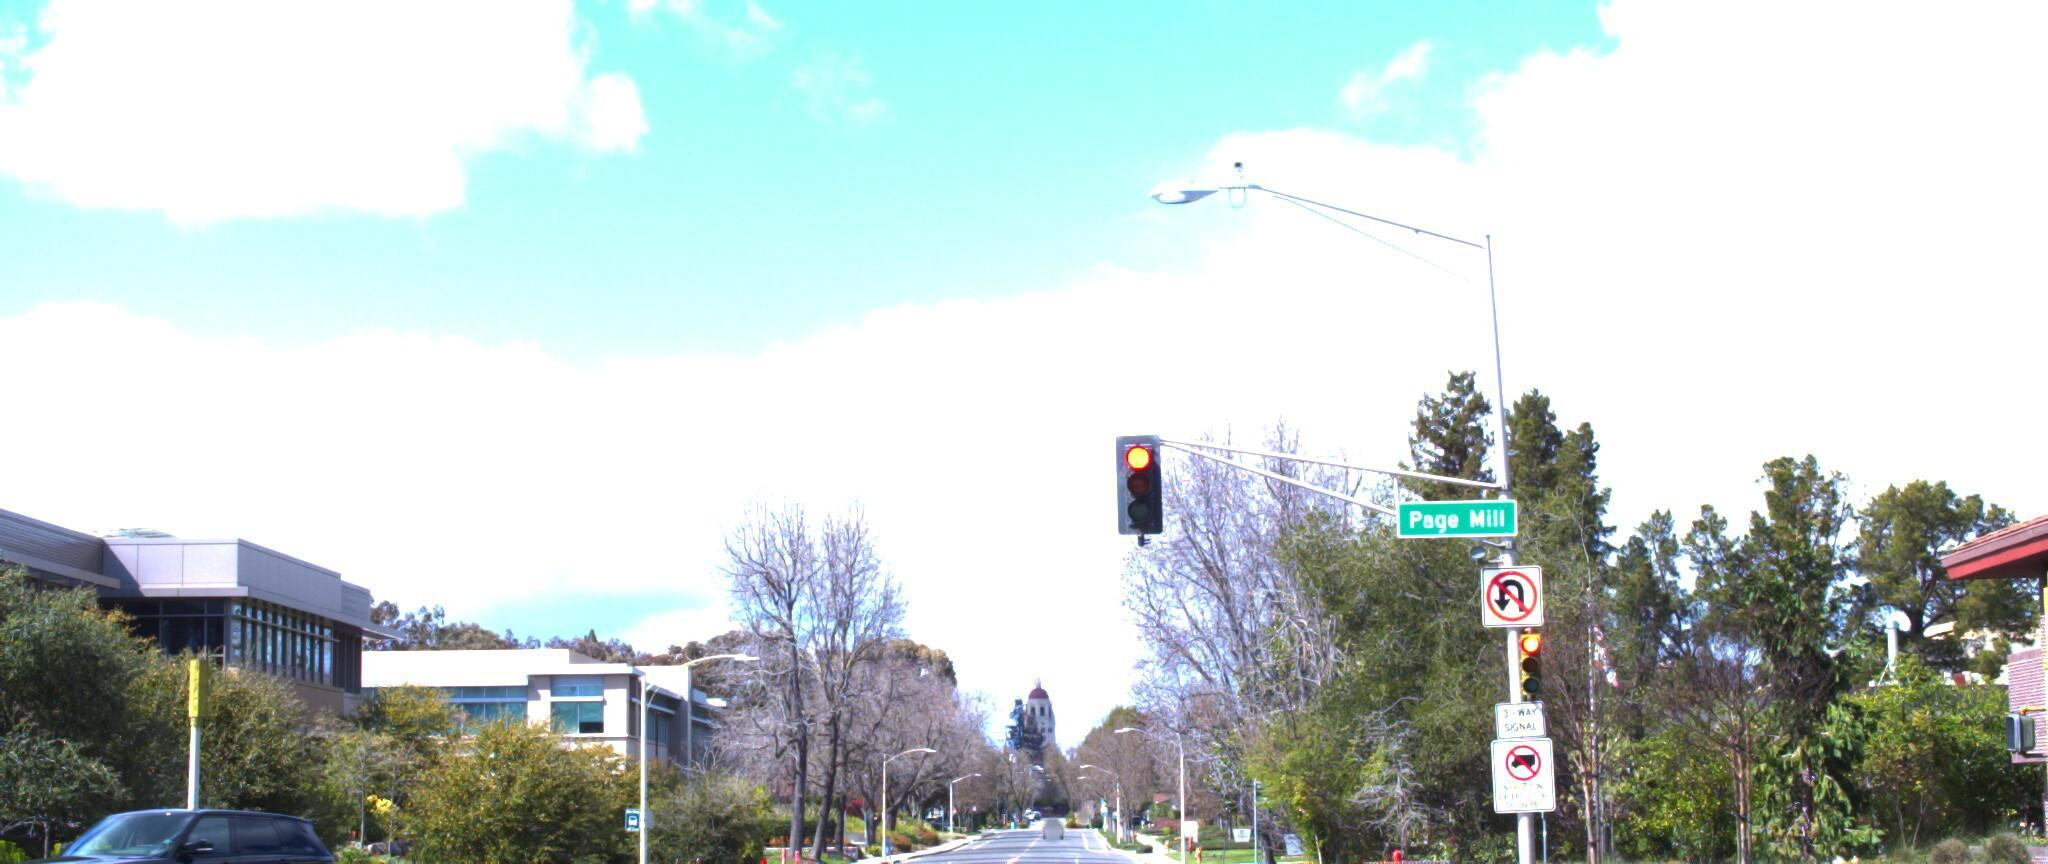car: (0, 810, 360, 864)
